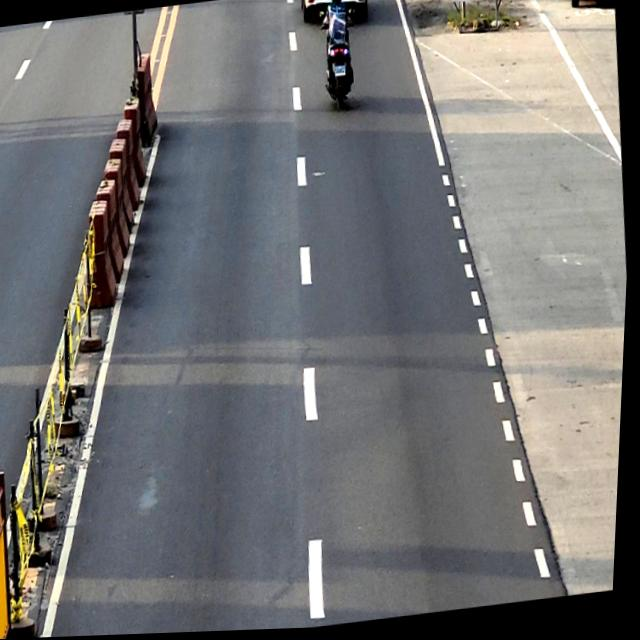Car: (299, 0, 370, 31), (558, 0, 614, 13)
License-Plate: (333, 67, 347, 79)
Motorcycle: (316, 9, 364, 116)
